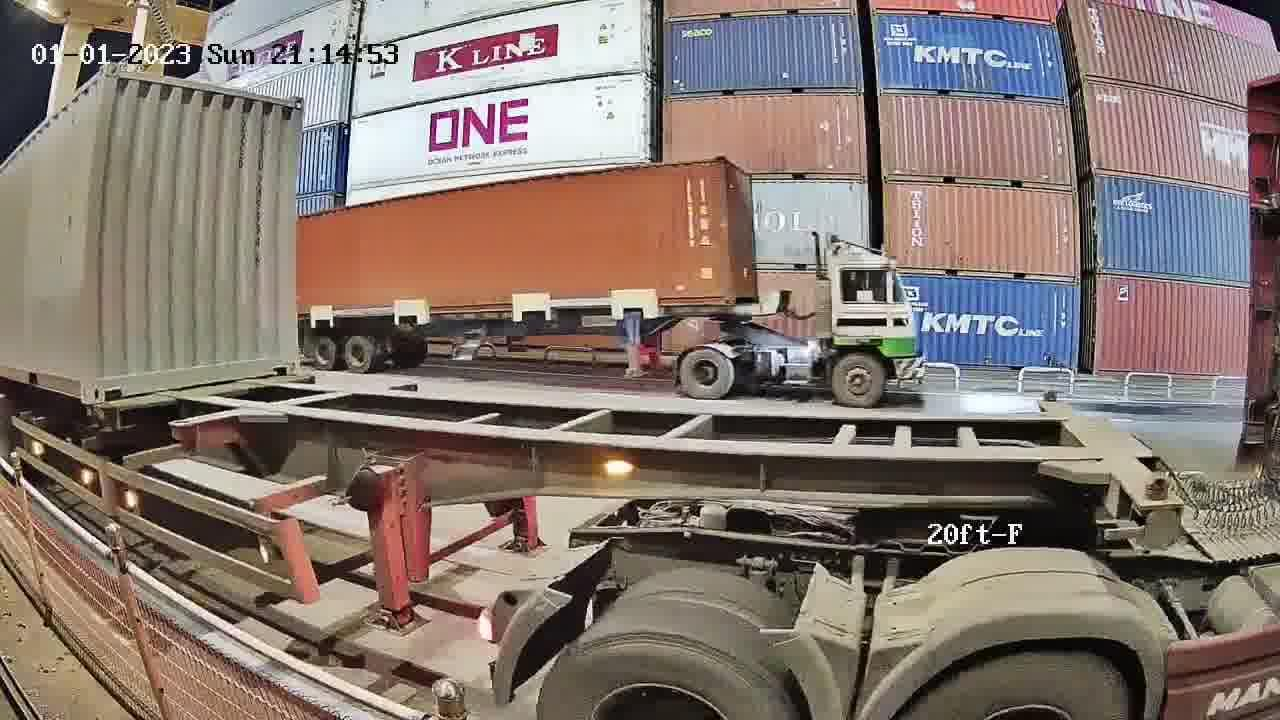Cone: (87, 410, 117, 432)
Hole_L: (86, 357, 132, 405)
Hole_R: (266, 337, 301, 374)
Tire: (537, 633, 783, 717), (899, 649, 1135, 717)
